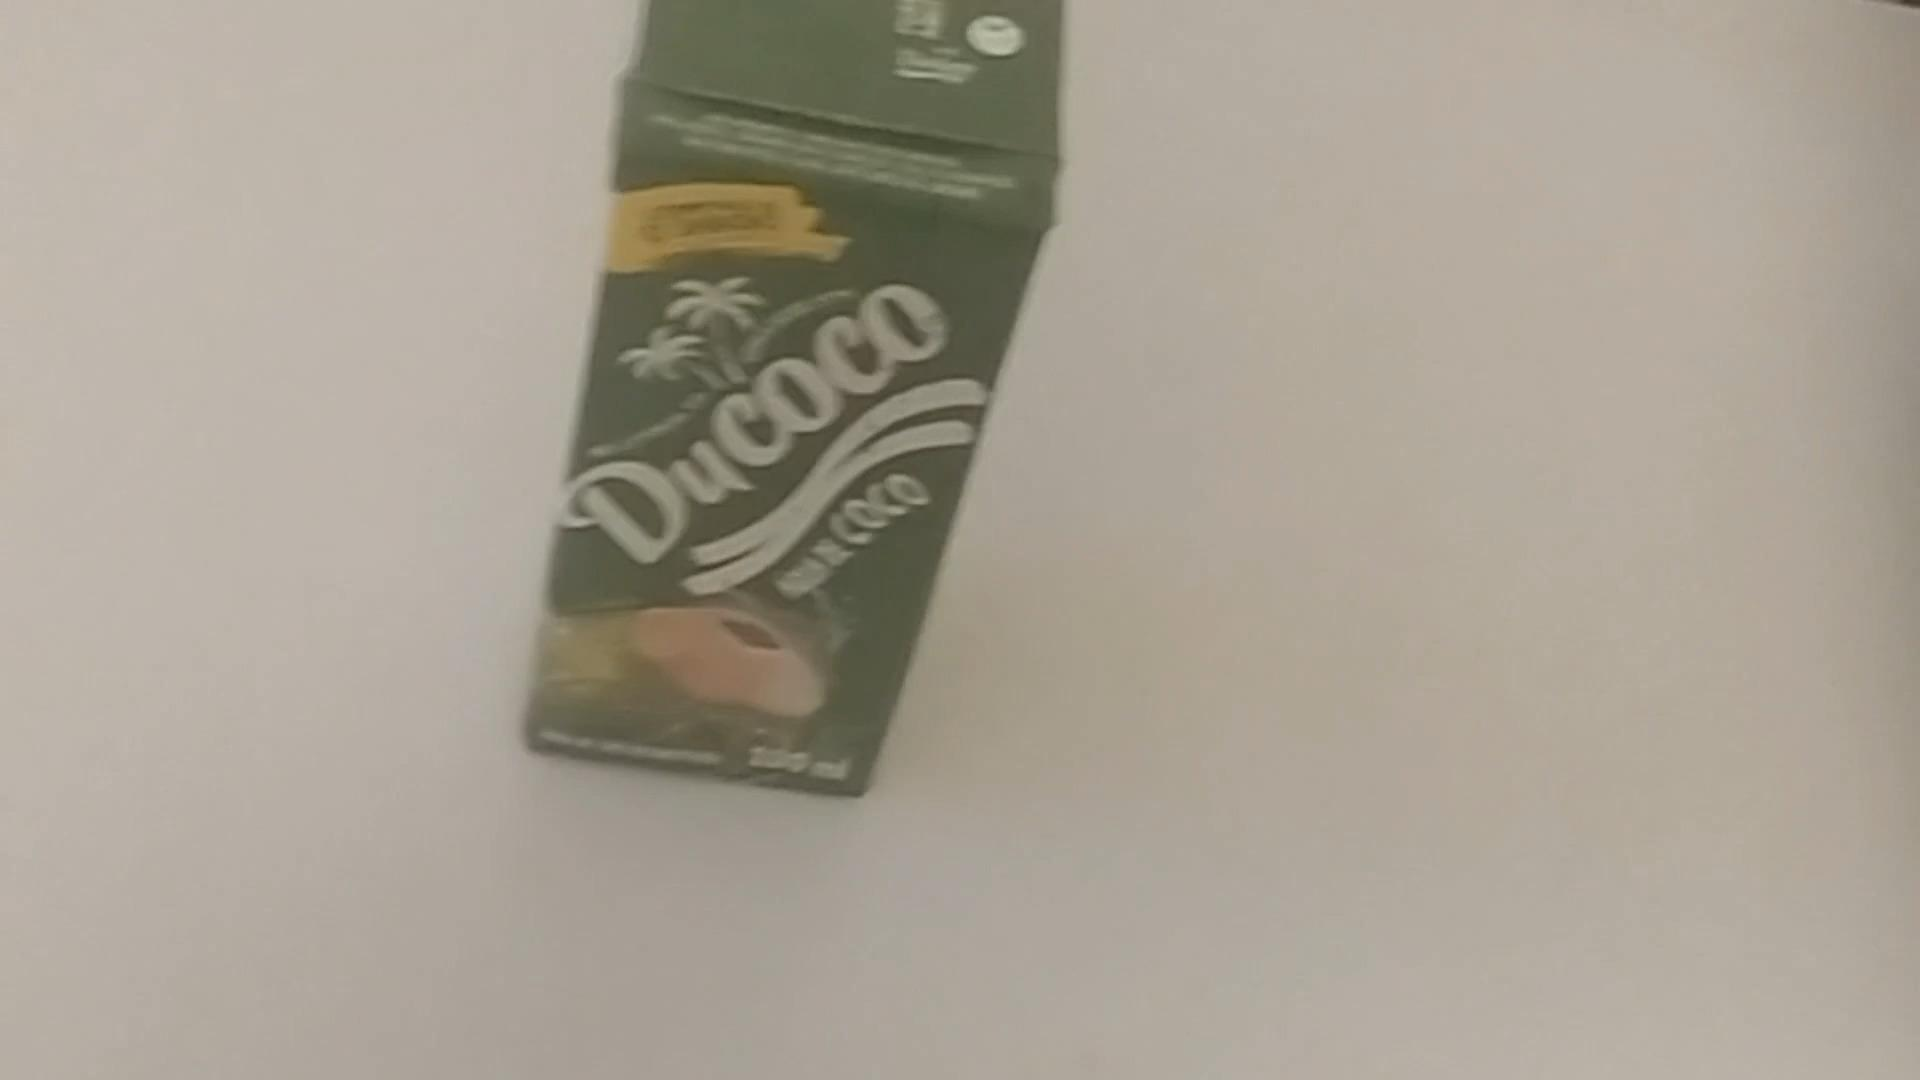coco: (514, 5, 1065, 804)
